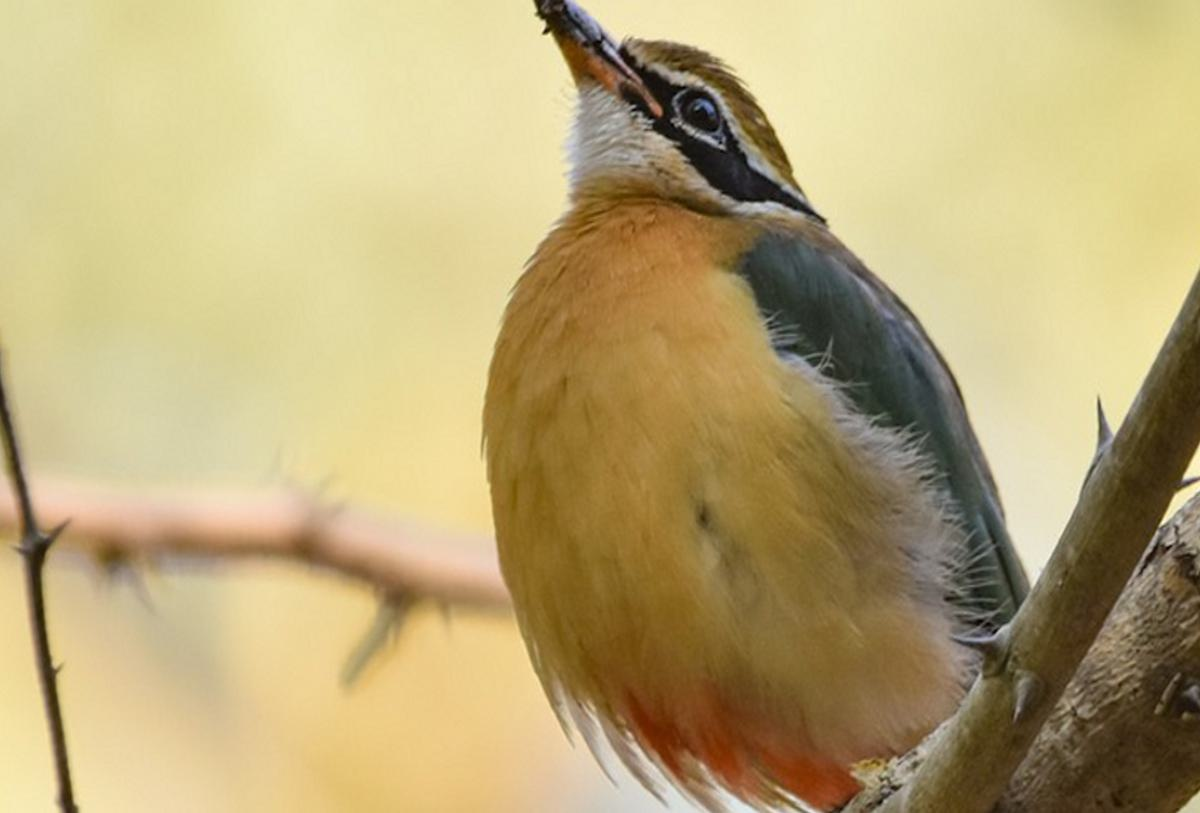pitta: (417, 22, 1016, 813)
